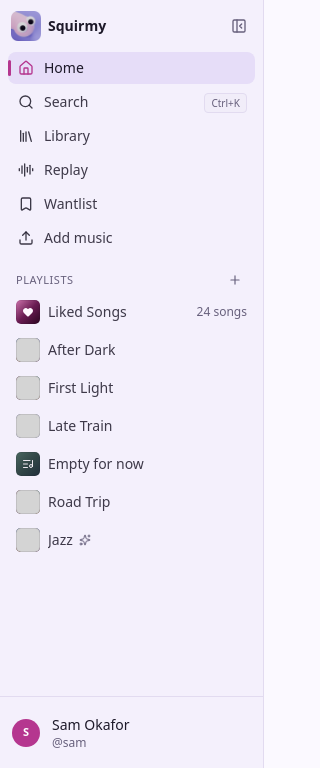
Test: Sidebar › account menu › offers Admin panel only to admins
The image size is (320, 768).
Click the button "S Sam Okafor @sam": (132, 732) [8, 712, 255, 752]
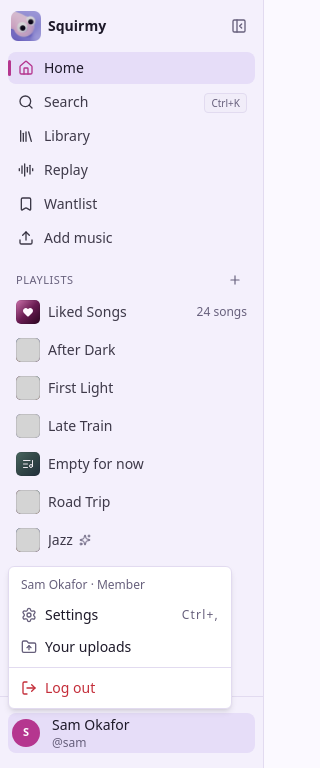
Check: the text "Sam Okafor · Member" is shown, box [21, 576, 145, 593]
